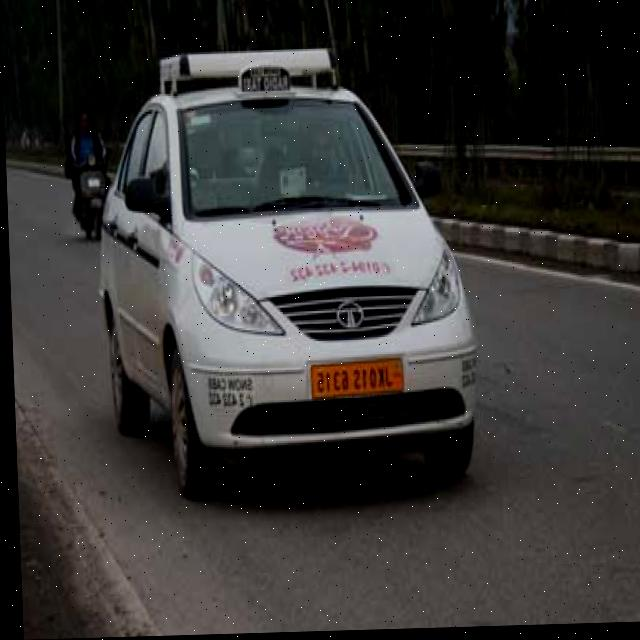plate: (302, 352, 408, 406)
